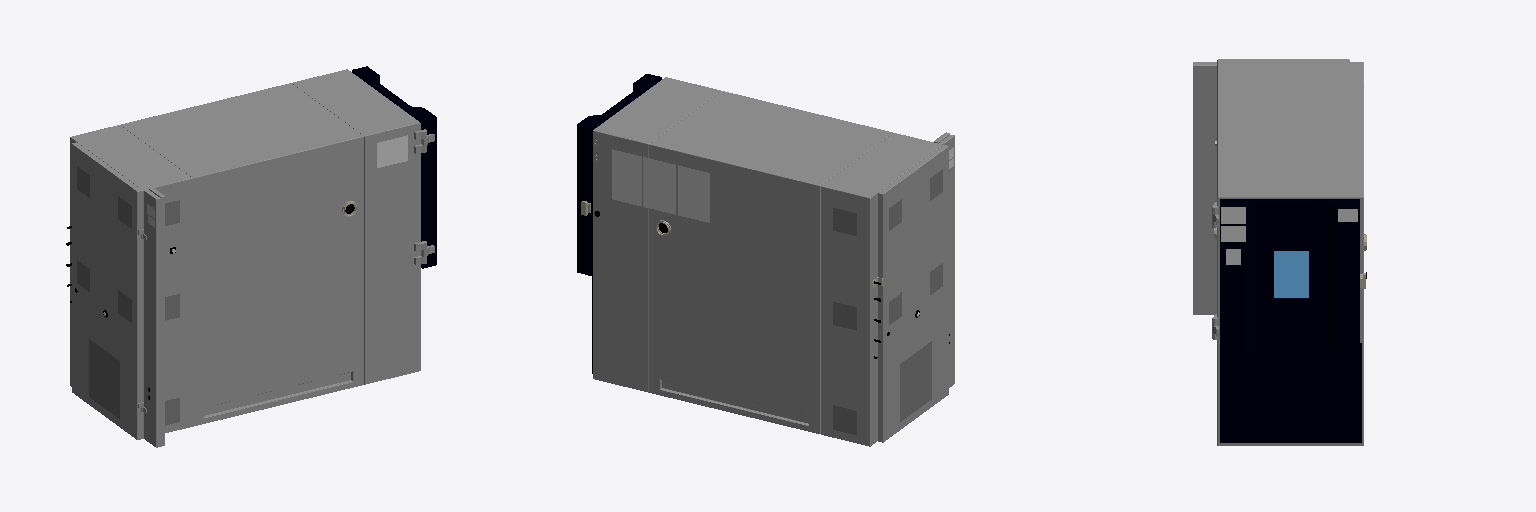
Rendered from 16WX_KWX.obj.
3 views of the same model, side by side, from view 1: azimuth 30°, elevation 25°; view 2: azimuth 150°, elevation 25°; view 3: azimuth 270°, elevation 25° (orthographic).
Parts seen in each view (by area): view 1: Matel_02, PartA_02, Matel_Blue, tex; view 2: Matel_02, tex, PartA_02, Matel_Blue; view 3: Matel_Blue, Matel_02, Glass, tex.
Part boxes in pixels (x1,y1,x2,y2): Matel_02: (70,69,434,447); PartA_02: (77,166,179,425); Matel_Blue: (352,66,436,268); tex: (103,135,407,315); Matel_02: (581,77,954,446); tex: (612,147,953,316); PartA_02: (833,169,942,435); Matel_Blue: (577,74,661,373); Matel_Blue: (1220,199,1361,442); Matel_02: (1193,59,1366,445); Glass: (1274,251,1308,297); tex: (1215,141,1357,264).
Size of the model in its own units: 98.8 by 77.68 by 49.33.